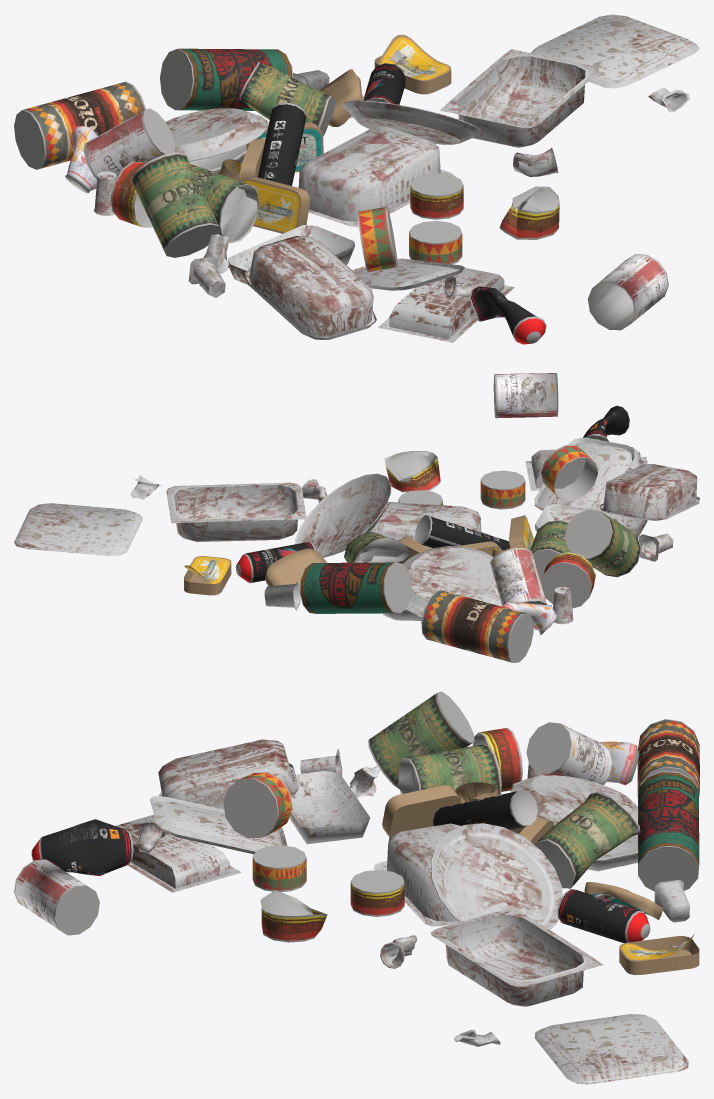
File: SM_TrashSet_02_B.fbx
3 renders of one model, top to bottom at view 1: azimuth 30°, elevation 25°; view 2: azimuth 150°, elevation 25°; view 3: azimuth 270°, elevation 25°, orthographic. The views are drawn at different scales.
Visible parts, largest first — view 1: SM_TrashSet_02_B; view 2: SM_TrashSet_02_B; view 3: SM_TrashSet_02_B.
Boxes of the visible parts, x1,y1,x2,y2 form: SM_TrashSet_02_B: (14,14,699,344); SM_TrashSet_02_B: (14,373,699,662); SM_TrashSet_02_B: (14,691,699,1084).
Size of the model in its own units: 130 by 121 by 18.27.
2 materials, 2 textured.
